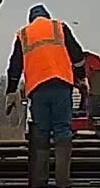gloves: (5, 93, 17, 115), (80, 80, 91, 101)
vest: (18, 17, 75, 97)
